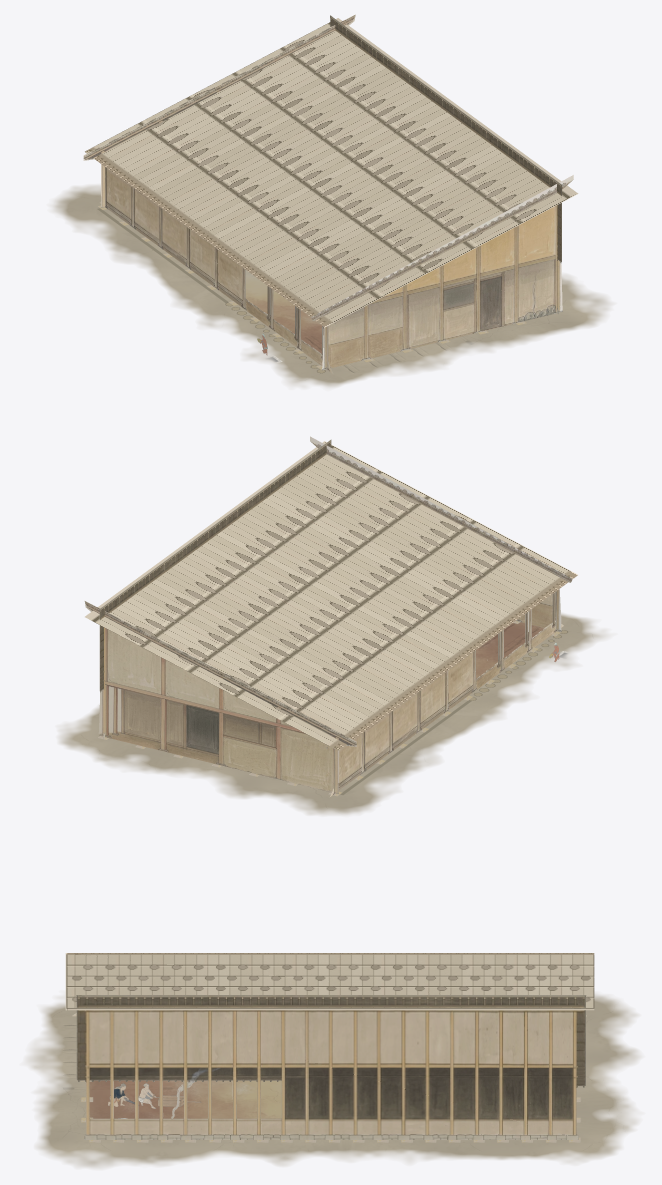
The model's file is kakiwari-center-1-50.glb.
3 views of the same model, one above another, from view 1: azimuth 30°, elevation 25°; view 2: azimuth 150°, elevation 25°; view 3: azimuth 270°, elevation 25° (orthographic). The views are drawn at different scales.
Parts seen in each view (by area): view 1: 屋根（西面の屋根帯）, 南面, 地面, 西面（壁）, 東面, 北面; view 2: 屋根（西面の屋根帯）, 北面, 地面, 西面（壁）, 東面, 南面; view 3: 東面, 地面, 屋根（西面の屋根帯）, 人物 番子.
Part boxes in pixels (x1,y1,x2,y2): 屋根（西面の屋根帯）: (85,18,578,327); 南面: (311,175,573,370); 地面: (51,185,612,387); 西面（壁）: (99,167,335,373); 東面: (330,15,561,313); 北面: (83,14,355,207); 屋根（西面の屋根帯）: (85,441,577,750); 北面: (84,601,356,793); 地面: (58,613,609,815); 西面（壁）: (326,591,563,796); 東面: (99,439,331,737); 南面: (310,436,572,631); 東面: (76,995,586,1139); 地面: (26,993,640,1168); 屋根（西面の屋根帯）: (65,953,594,1010); 人物 番子: (138,1083,201,1108).
Bounding box in the file's own units: 0.3546 × 0.135 × 0.5122.
20 materials, 20 textured.
